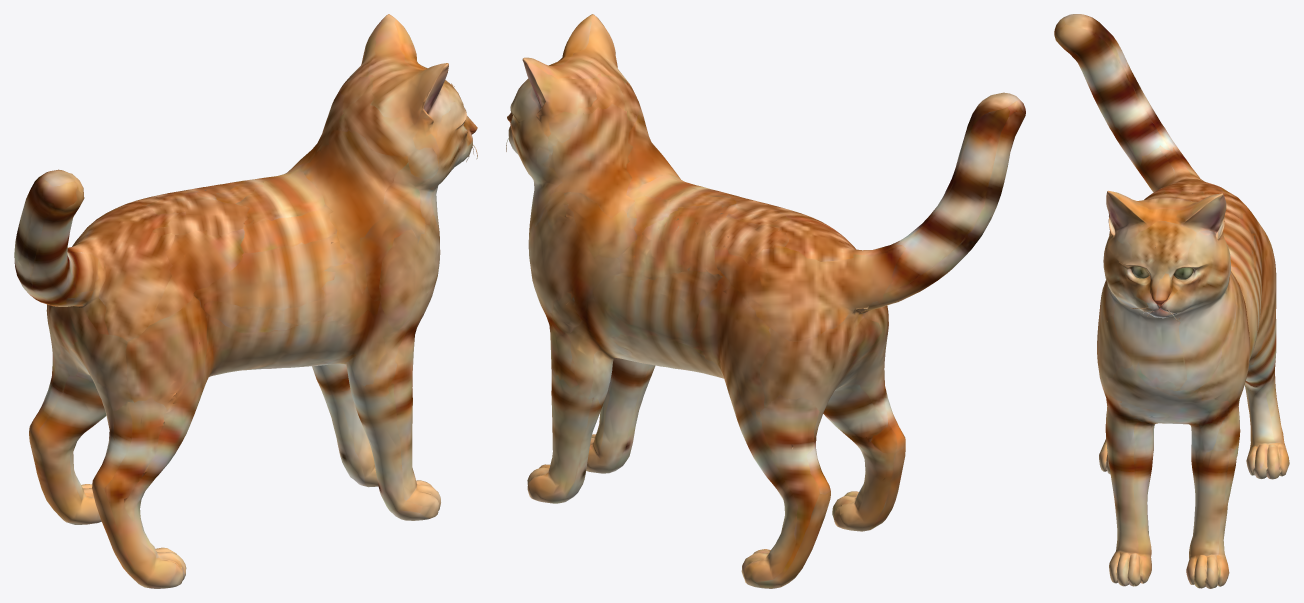
The model's file is NOSTROMCAT-lo.glb.
The picture shows the model from 3 angles, left to right: view 1: azimuth 30°, elevation 25°; view 2: azimuth 150°, elevation 25°; view 3: azimuth 270°, elevation 25°; orthographic projection. The views are drawn at different scales.
Visible parts, largest first — view 1: fit; view 2: fit; view 3: fit.
Boxes of the visible parts, x1,y1,x2,y2 form: fit: [14, 14, 477, 588]; fit: [506, 14, 1025, 588]; fit: [1054, 14, 1289, 588].
Bounding box in the file's own units: 1.11 × 0.9994 × 0.5353.
Materials: 1 (1 with a texture image).
